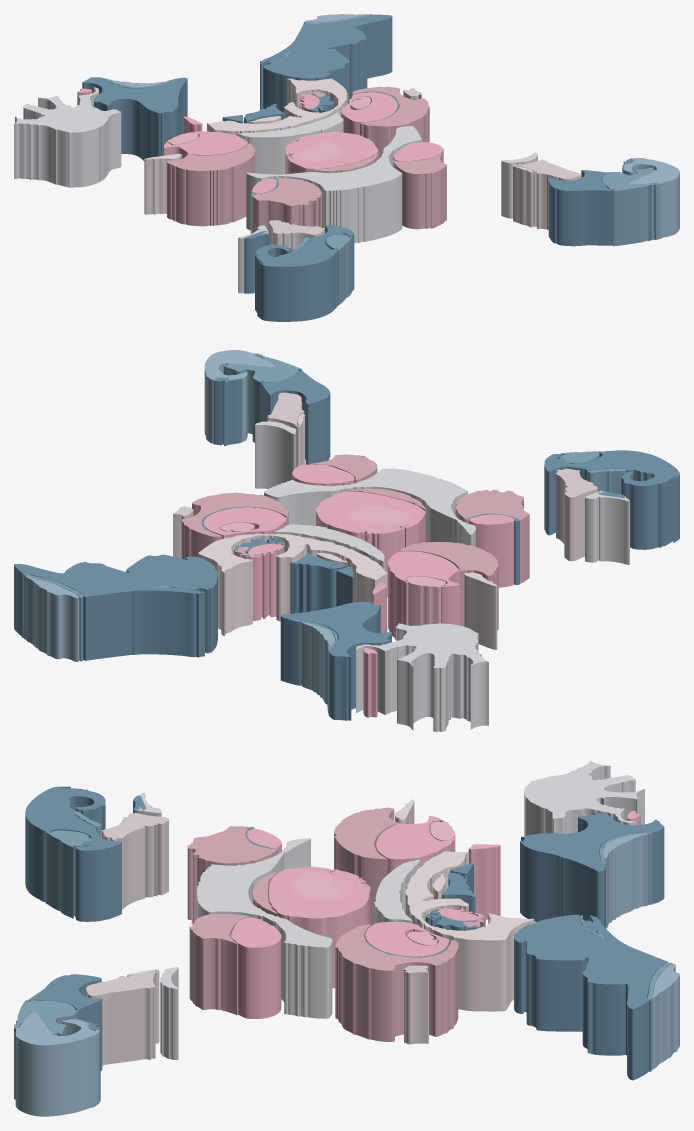
The picture shows the model from 3 angles, top to bottom: view 1: azimuth 30°, elevation 25°; view 2: azimuth 150°, elevation 25°; view 3: azimuth 270°, elevation 25°; orthographic projection. The views are drawn at different scales.
Parts seen in each view (by area): view 1: imagetostl_mesh24, imagetostl_mesh4, imagetostl_mesh22, imagetostl_mesh52, imagetostl_mesh0, imagetostl_mesh1, imagetostl_mesh6, imagetostl_mesh2, imagetostl_mesh68, imagetostl_mesh54, imagetostl_mesh23, imagetostl_mesh25 (+30 smaller); view 2: imagetostl_mesh0, imagetostl_mesh24, imagetostl_mesh1, imagetostl_mesh60, imagetostl_mesh4, imagetostl_mesh2, imagetostl_mesh82, imagetostl_mesh23, imagetostl_mesh22, imagetostl_mesh30, imagetostl_mesh25, imagetostl_mesh3 (+38 smaller); view 3: imagetostl_mesh0, imagetostl_mesh48, imagetostl_mesh2, imagetostl_mesh80, imagetostl_mesh1, imagetostl_mesh4, imagetostl_mesh60, imagetostl_mesh22, imagetostl_mesh86, imagetostl_mesh23, imagetostl_mesh54, imagetostl_mesh88 (+34 smaller).
Boxes of the visible parts, box(x1,y1,x2,y2) form: imagetostl_mesh24: box(14, 87, 121, 187); imagetostl_mesh4: box(255, 226, 354, 321); imagetostl_mesh22: box(246, 133, 421, 243); imagetostl_mesh52: box(167, 152, 255, 226); imagetostl_mesh0: box(260, 17, 392, 112); imagetostl_mesh1: box(260, 14, 392, 78); imagetostl_mesh6: box(548, 170, 614, 246); imagetostl_mesh2: box(82, 79, 187, 160); imagetostl_mesh68: box(602, 168, 659, 246); imagetostl_mesh54: box(393, 153, 446, 229); imagetostl_mesh23: box(246, 126, 421, 190); imagetostl_mesh25: box(15, 87, 120, 132); imagetostl_mesh0: box(14, 558, 217, 660); imagetostl_mesh24: box(356, 627, 488, 731); imagetostl_mesh1: box(14, 554, 217, 596); imagetostl_mesh60: box(198, 535, 387, 636); imagetostl_mesh4: box(544, 453, 679, 549); imagetostl_mesh2: box(280, 603, 391, 720); imagetostl_mesh82: box(25, 576, 79, 661); imagetostl_mesh23: box(264, 468, 475, 534); imagetostl_mesh22: box(264, 479, 475, 546); imagetostl_mesh30: box(585, 496, 629, 564); imagetostl_mesh25: box(356, 623, 488, 667); imagetostl_mesh3: box(281, 602, 391, 656); imagetostl_mesh0: box(514, 916, 667, 1080); imagetostl_mesh48: box(335, 925, 458, 1041); imagetostl_mesh2: box(520, 813, 664, 928); imagetostl_mesh80: box(14, 1022, 99, 1116); imagetostl_mesh1: box(514, 914, 667, 1008); imagetostl_mesh4: box(25, 786, 121, 921); imagetostl_mesh60: box(405, 852, 534, 1011); imagetostl_mesh22: box(197, 839, 332, 1018); imagetostl_mesh86: box(86, 971, 156, 1065); imagetostl_mesh23: box(197, 838, 332, 947); imagetostl_mesh54: box(189, 916, 248, 1015); imagetostl_mesh88: box(100, 820, 168, 909).
Size of the model in its own units: 85.74 by 10 by 84.66.
